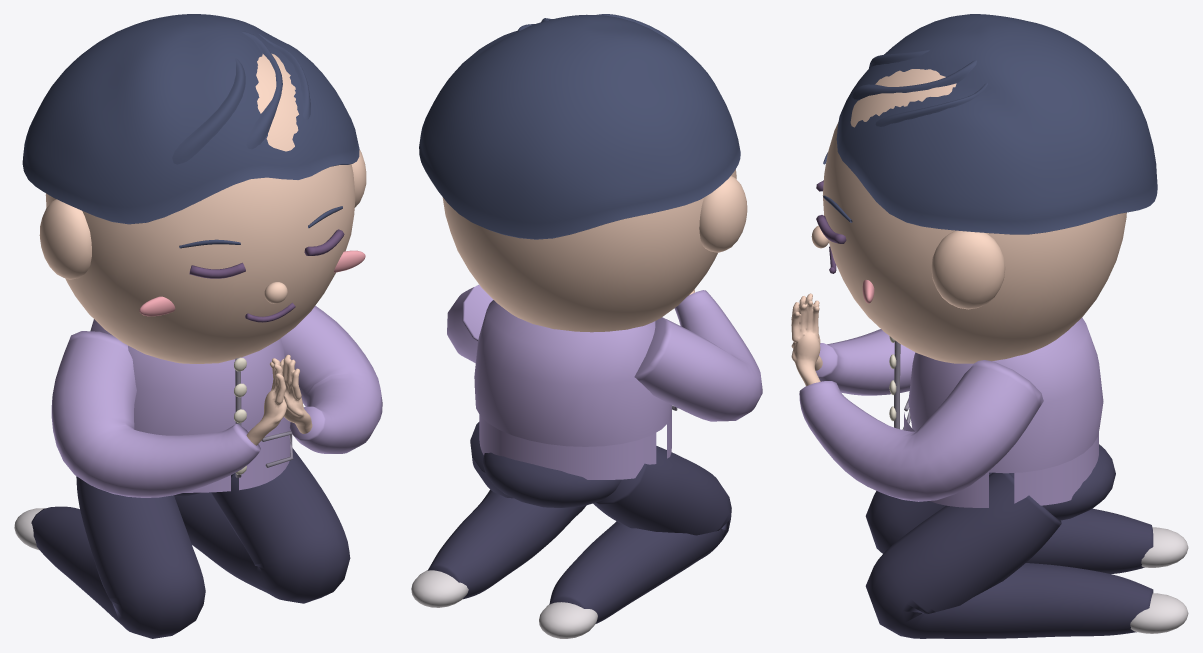
The model's file is meditator_male_kneel_prayer_p06b.glb.
3 views of the same model, side by side, from view 1: azimuth 30°, elevation 25°; view 2: azimuth 150°, elevation 25°; view 3: azimuth 270°, elevation 25° (orthographic). The views are drawn at different scales.
Parts seen in each view (by area): view 1: hair_neat_male_soft_sidepart_p06b_object, skin_rose_cream_UpperBodyBreath_object, ao_ba_ba_top_UpperBodyBreath_object, ao_ba_ba_pants_SeatRoot_object, eyes_mauve_UpperBodyBreath_object, skin_blush_UpperBodyBreath_object, sandal_trim_SeatRoot_object, ao_ba_ba_placket_UpperBodyBreath_object; view 2: hair_neat_male_soft_sidepart_p06b_object, ao_ba_ba_top_UpperBodyBreath_object, ao_ba_ba_pants_SeatRoot_object, skin_rose_cream_UpperBodyBreath_object, sandal_trim_SeatRoot_object; view 3: hair_neat_male_soft_sidepart_p06b_object, ao_ba_ba_top_UpperBodyBreath_object, skin_rose_cream_UpperBodyBreath_object, ao_ba_ba_pants_SeatRoot_object, sandal_trim_SeatRoot_object, ao_ba_ba_placket_UpperBodyBreath_object, eyes_mauve_UpperBodyBreath_object.
Boxes of the visible parts, x1=… form: hair_neat_male_soft_sidepart_p06b_object: x1=22, y1=14, x2=359, y2=248; skin_rose_cream_UpperBodyBreath_object: x1=39, y1=53, x2=366, y2=445; ao_ba_ba_top_UpperBodyBreath_object: x1=51, y1=306, x2=382, y2=497; ao_ba_ba_pants_SeatRoot_object: x1=31, y1=448, x2=350, y2=638; eyes_mauve_UpperBodyBreath_object: x1=189, y1=229, x2=344, y2=322; skin_blush_UpperBodyBreath_object: x1=139, y1=250, x2=365, y2=316; sandal_trim_SeatRoot_object: x1=14, y1=508, x2=44, y2=550; ao_ba_ba_placket_UpperBodyBreath_object: x1=235, y1=357, x2=293, y2=477; hair_neat_male_soft_sidepart_p06b_object: x1=419, y1=14, x2=740, y2=239; ao_ba_ba_top_UpperBodyBreath_object: x1=447, y1=285, x2=762, y2=479; ao_ba_ba_pants_SeatRoot_object: x1=427, y1=422, x2=731, y2=623; skin_rose_cream_UpperBodyBreath_object: x1=442, y1=169, x2=747, y2=332; sandal_trim_SeatRoot_object: x1=411, y1=570, x2=597, y2=638; hair_neat_male_soft_sidepart_p06b_object: x1=823, y1=14, x2=1157, y2=234; ao_ba_ba_top_UpperBodyBreath_object: x1=799, y1=317, x2=1103, y2=507; skin_rose_cream_UpperBodyBreath_object: x1=791, y1=69, x2=1126, y2=386; ao_ba_ba_pants_SeatRoot_object: x1=865, y1=444, x2=1153, y2=638; sandal_trim_SeatRoot_object: x1=1130, y1=527, x2=1188, y2=633; ao_ba_ba_placket_UpperBodyBreath_object: x1=894, y1=341, x2=910, y2=430; eyes_mauve_UpperBodyBreath_object: x1=816, y1=180, x2=846, y2=273.
Size of the model in its own units: 0.672 by 1.16 by 0.7285.
